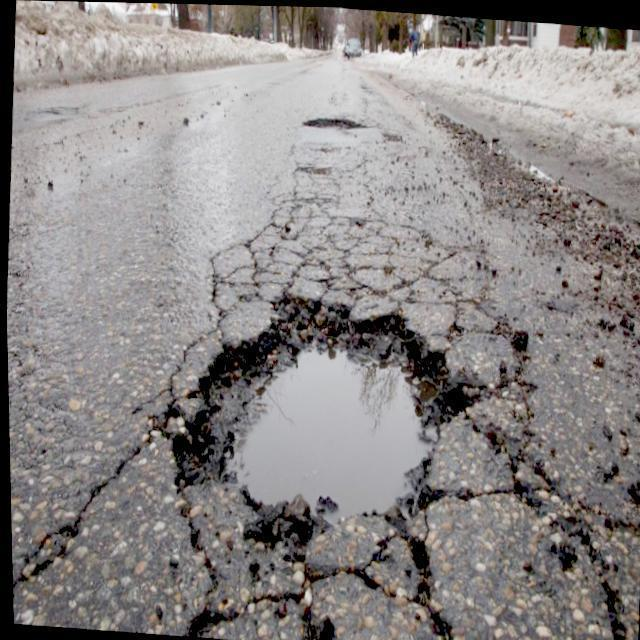Pothole: (175, 291, 479, 544), (304, 110, 370, 134)
